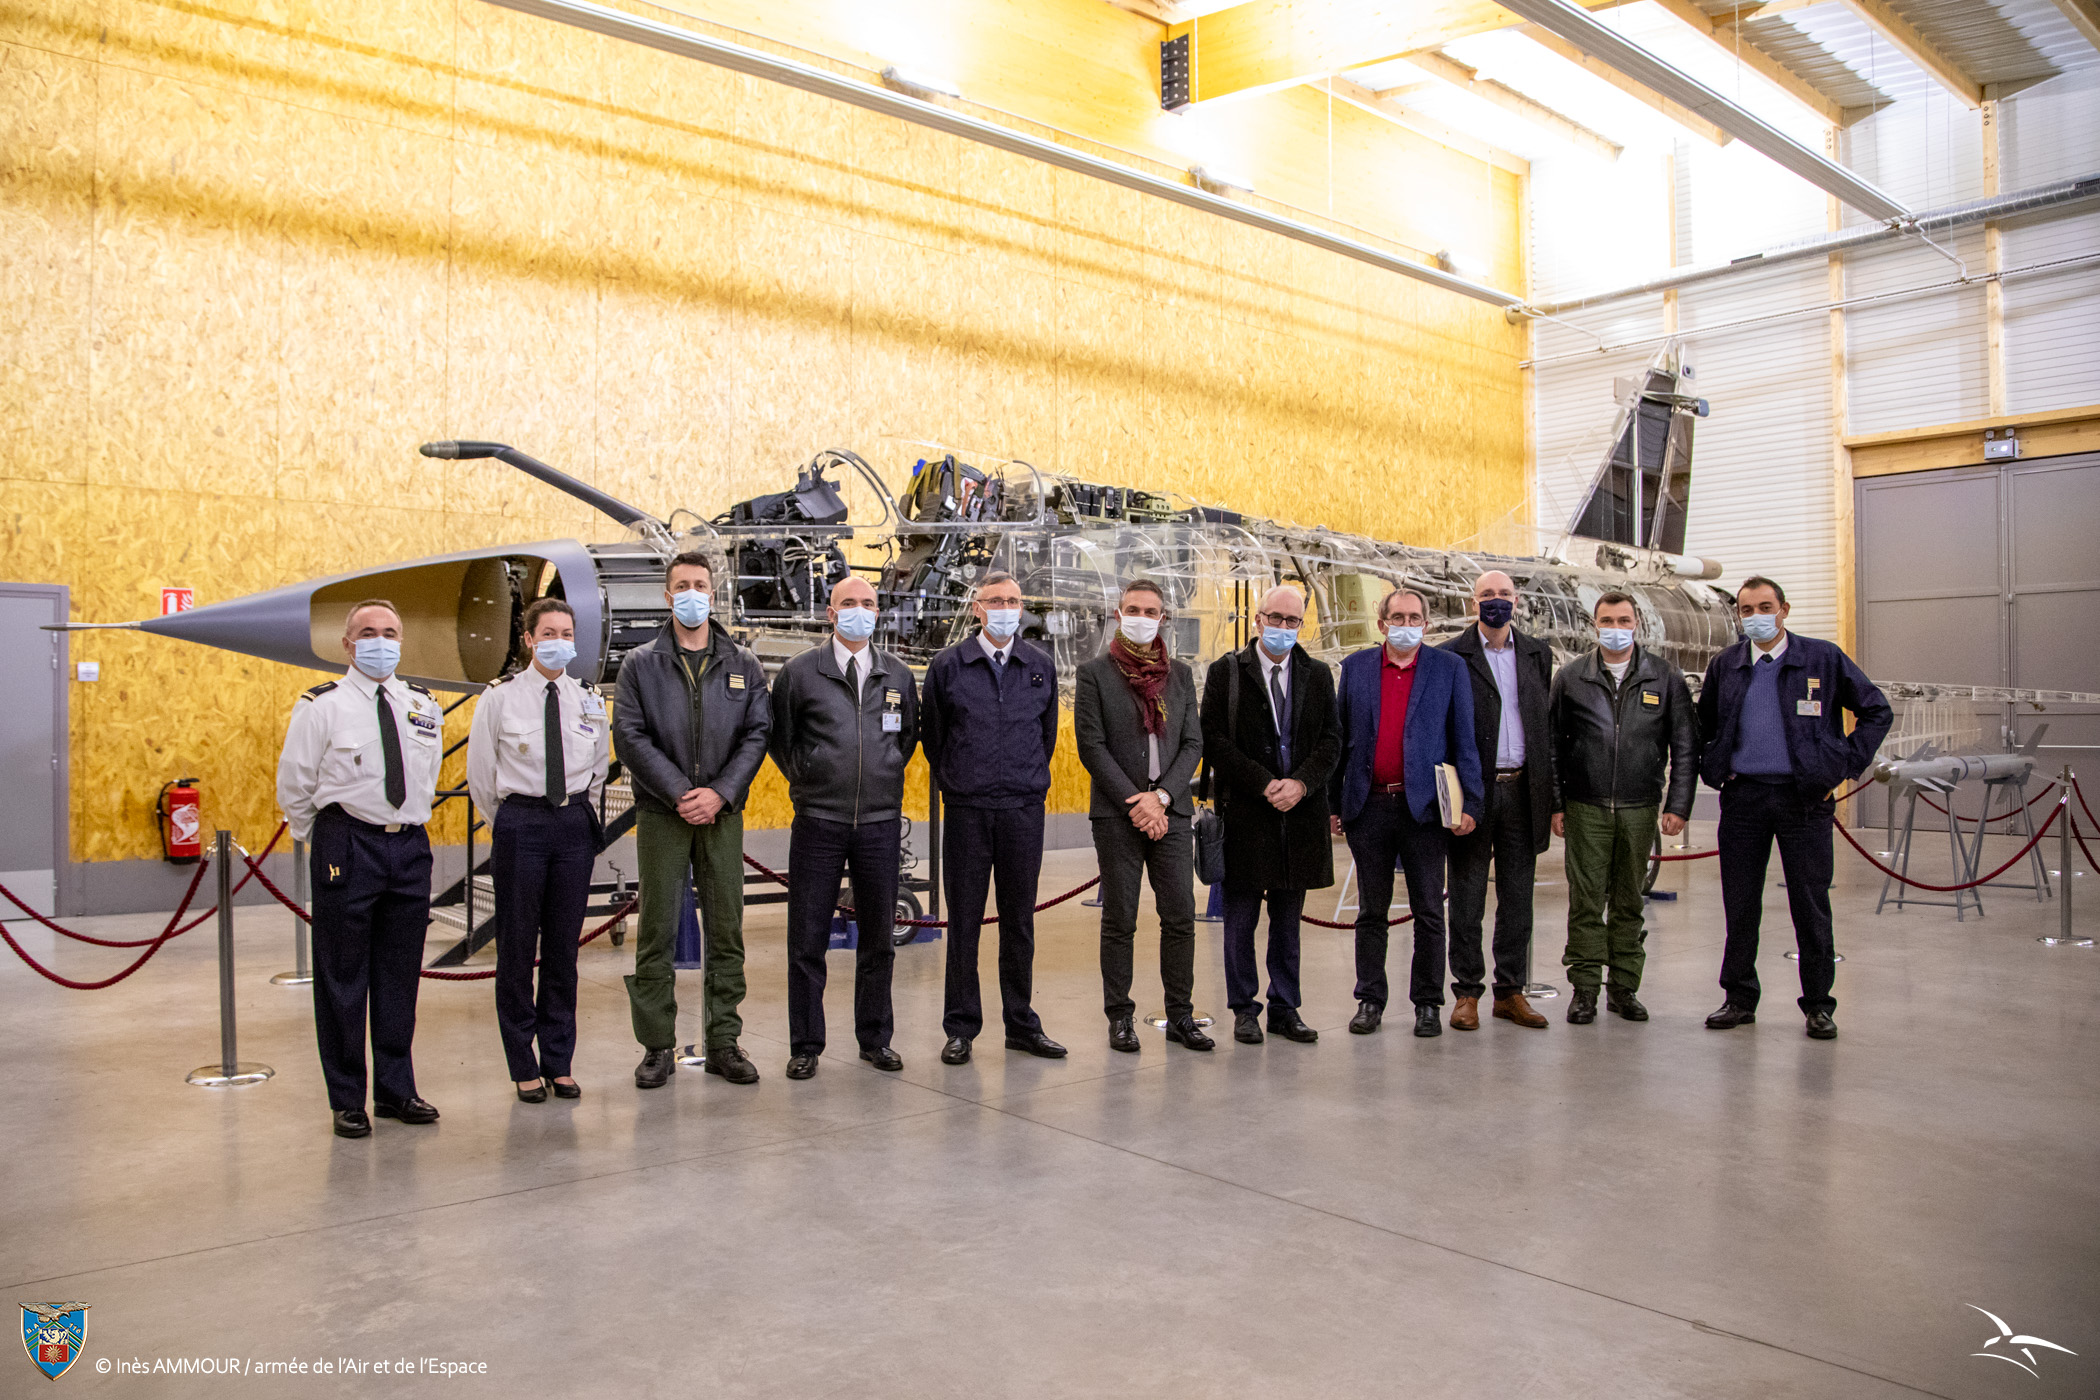Mirage2000: (37, 336, 2100, 947)
